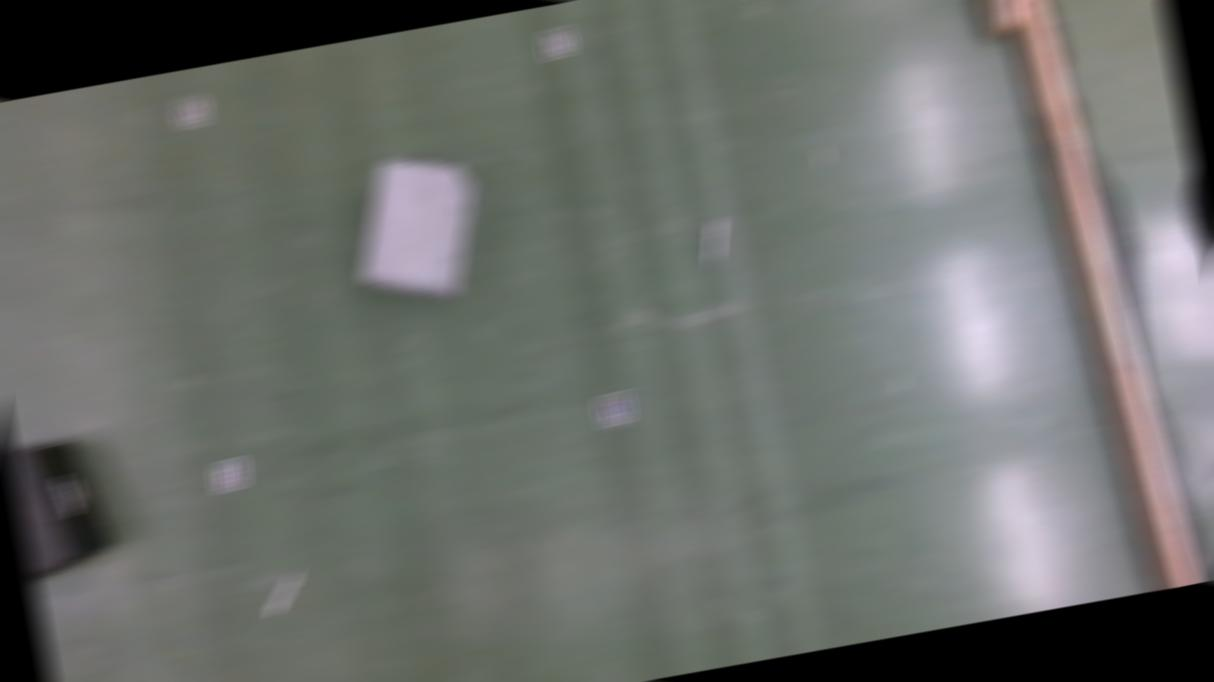probes: (261, 570, 304, 616), (700, 217, 728, 264)
rako: (340, 146, 494, 312), (6, 434, 120, 580)
